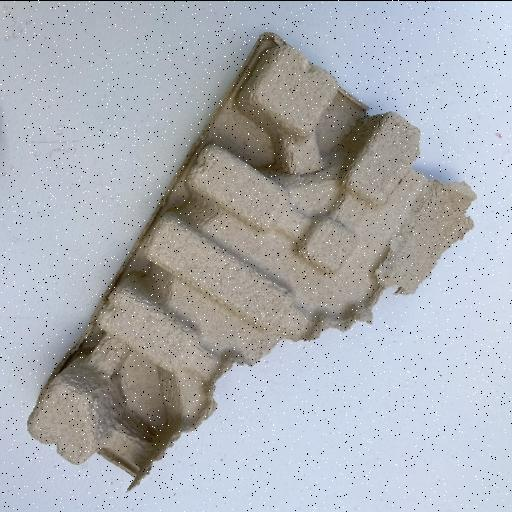Cardboard: (26, 30, 478, 492)
